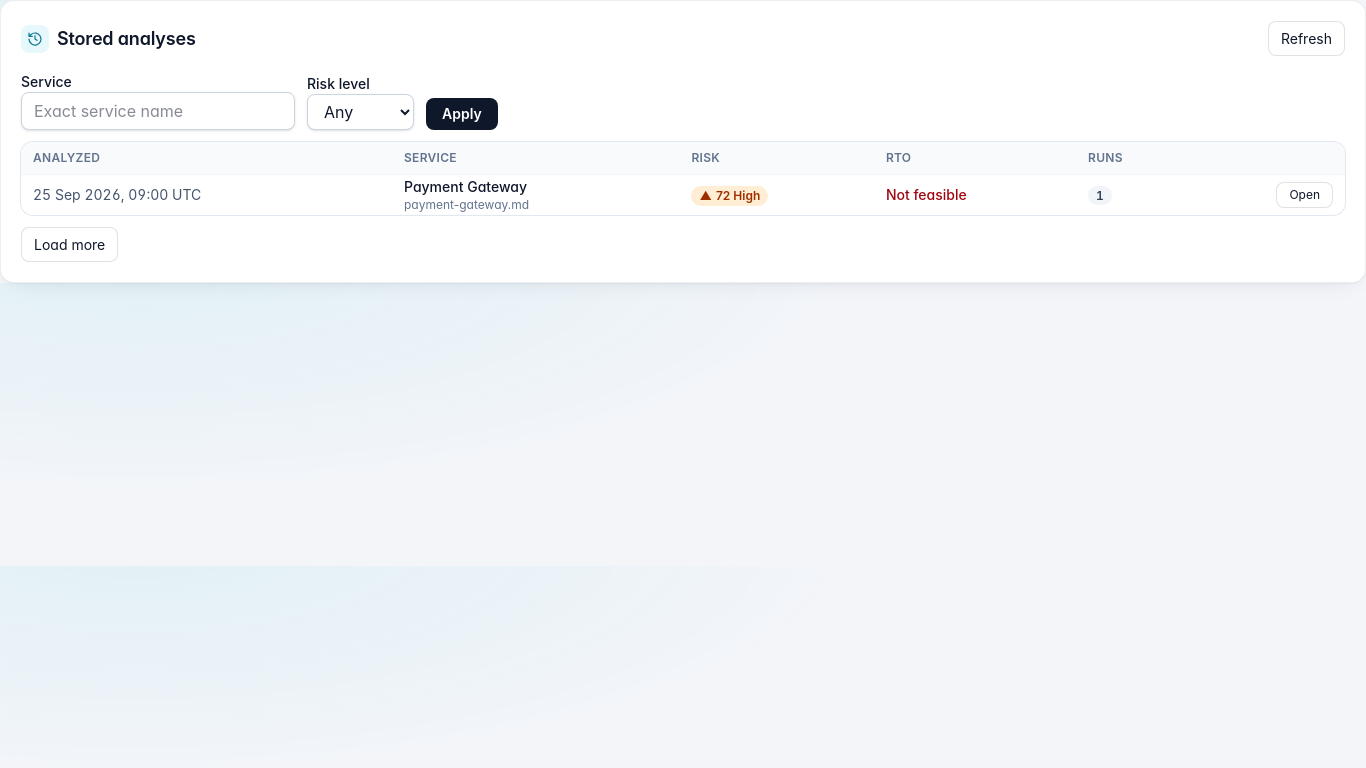
it: HistoryView › loads more pages
Click the button "Load more" at (70, 244), box [21,227,118,262]
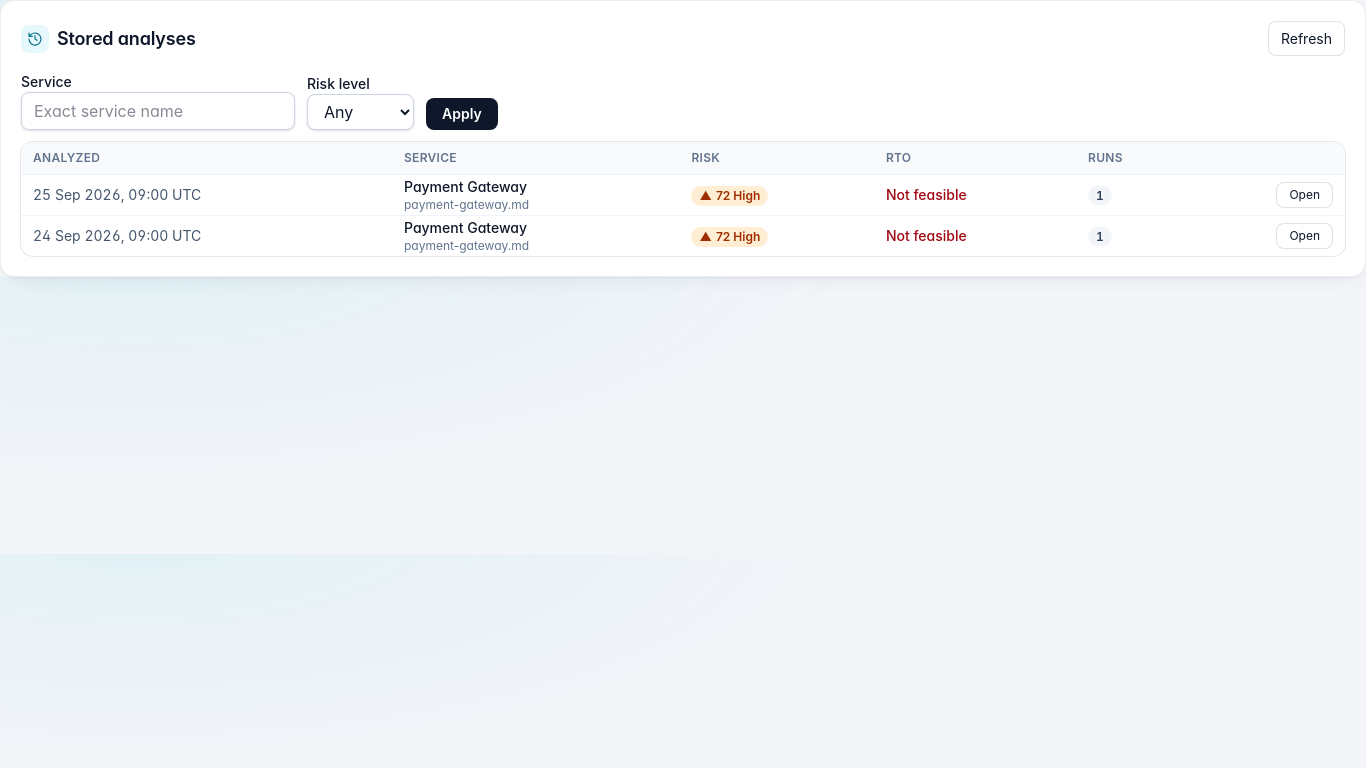
Check: the number of rows is 3, box [21,142,1345,174]; [21,174,1345,216]; [21,216,1345,256]
Check: the text "24 Sep 2026, 09:00 UTC" is shown, box [21,216,392,256]
Check: the button "Load more" is gone
